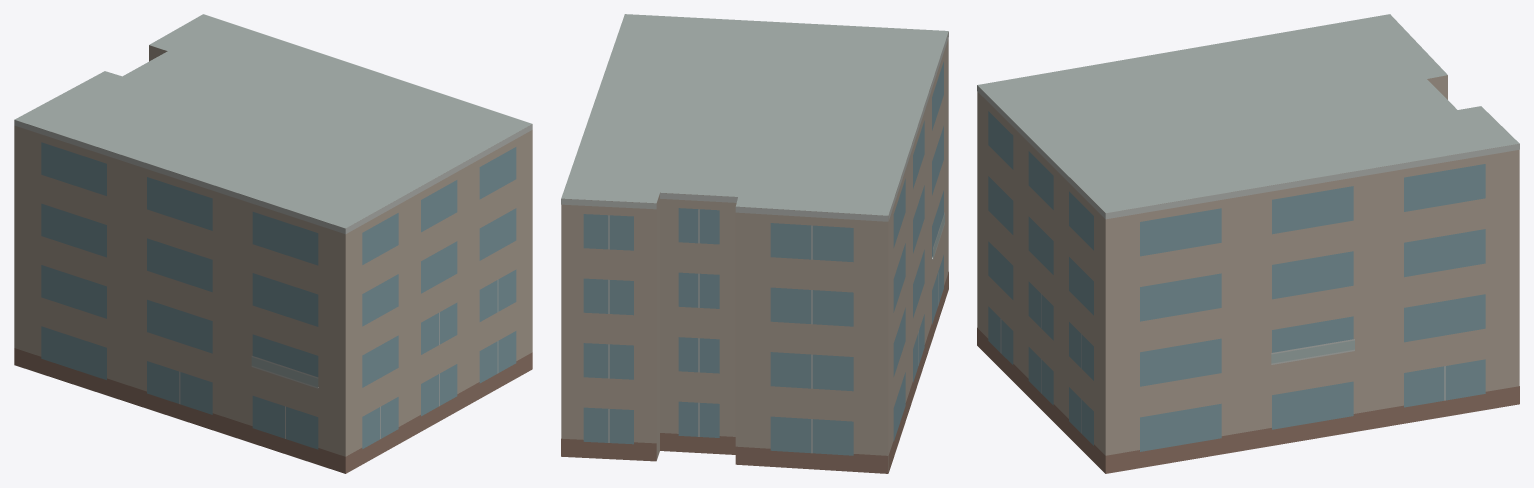
The model's file is survey-upis-32459596.glb.
3 views of the same model, side by side, from view 1: azimuth 30°, elevation 25°; view 2: azimuth 150°, elevation 25°; view 3: azimuth 270°, elevation 25° (orthographic). The views are drawn at different scales.
Parts seen in each view (by area): view 1: survey-upis-32459596.tmp; view 2: survey-upis-32459596.tmp; view 3: survey-upis-32459596.tmp.
Boxes of the visible parts, x1,y1,x2,y2 form: survey-upis-32459596.tmp: (14,14,532,473); survey-upis-32459596.tmp: (561,14,948,473); survey-upis-32459596.tmp: (977,14,1519,473).
Bounding box in the file's own units: 17.06 × 10.4 × 19.63.
